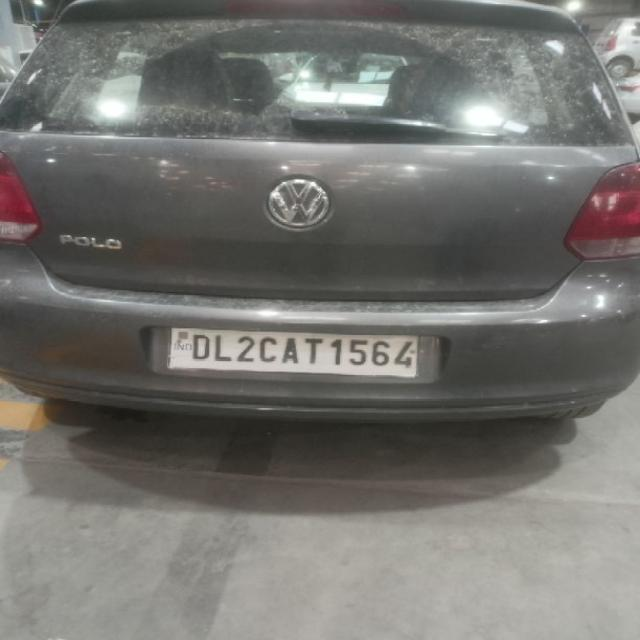license_plate: (158, 326, 424, 380)
